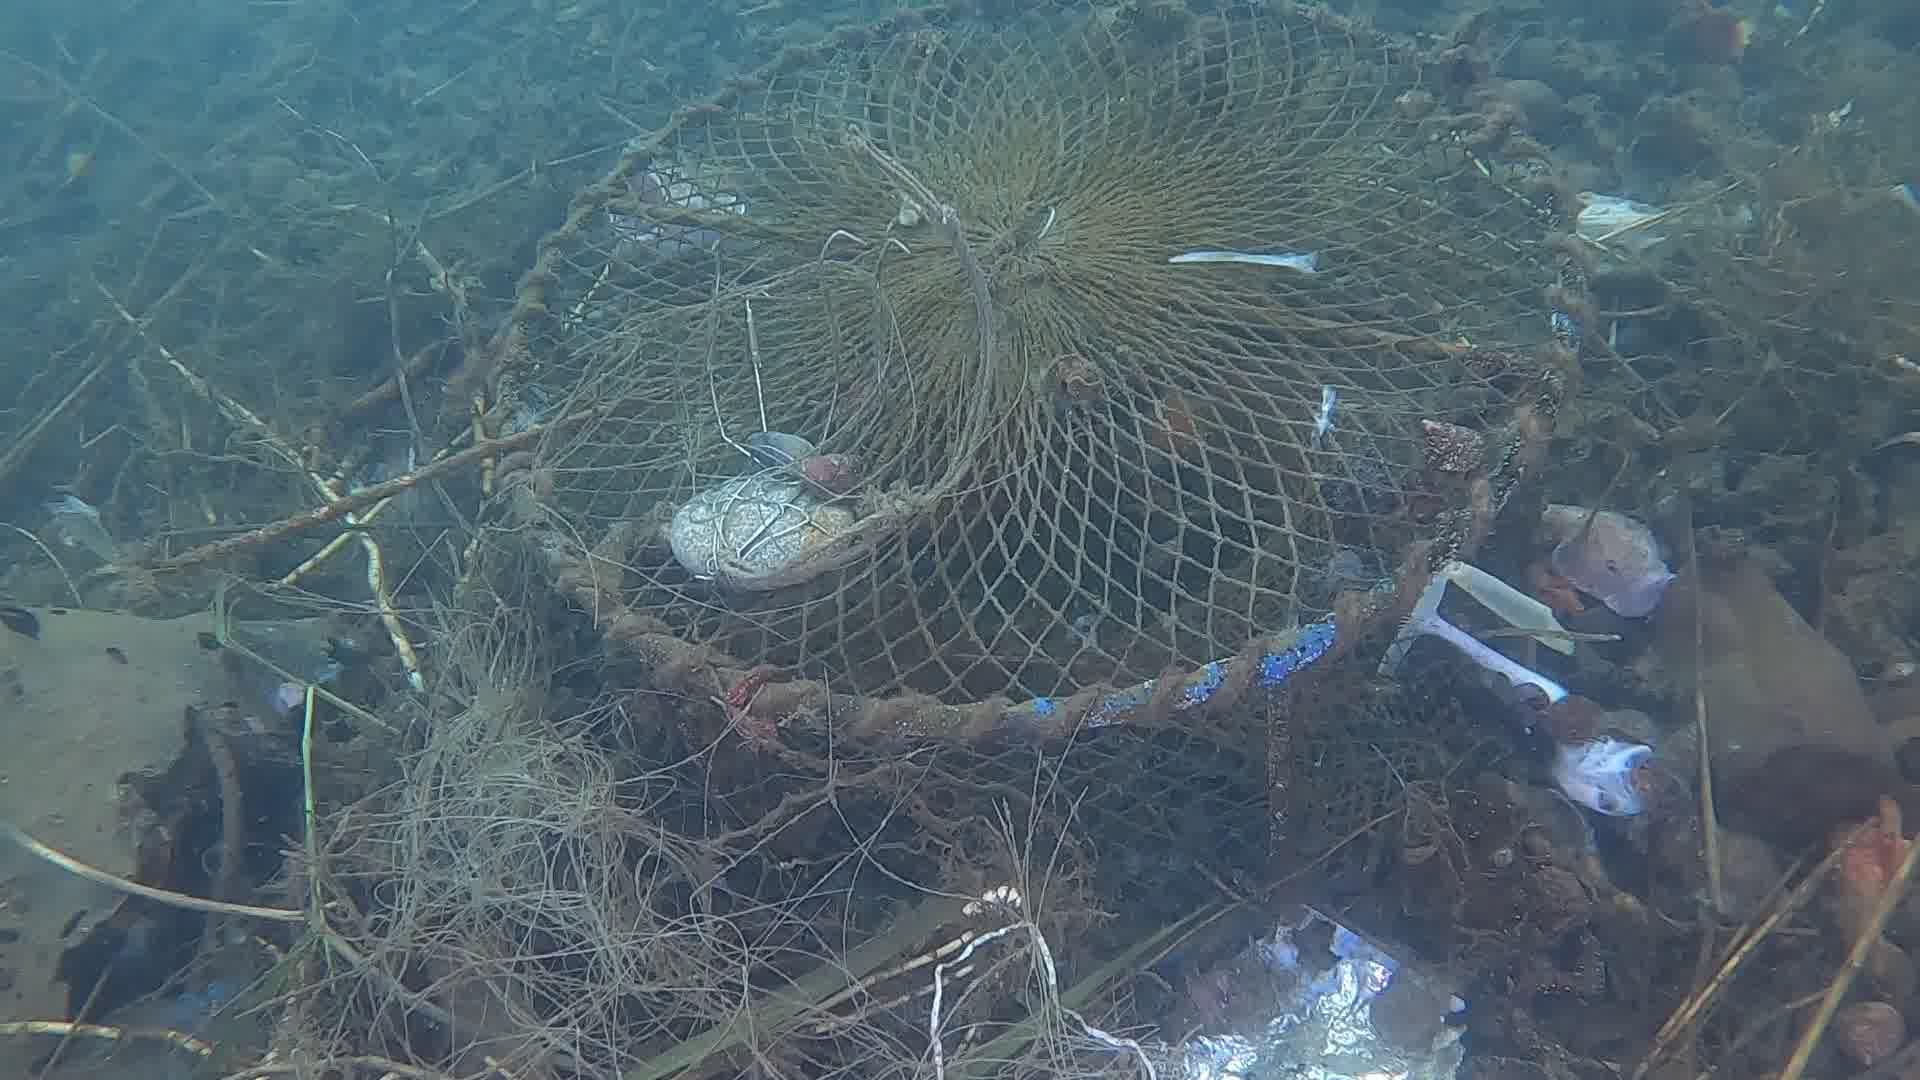circular fish trap: (473, 0, 1589, 916)
